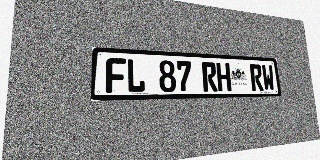7: (176, 61, 193, 92)
8: (159, 60, 176, 92)
F: (106, 58, 126, 93)
H: (216, 62, 231, 91)
L: (126, 58, 145, 93)
R: (202, 62, 218, 92), (249, 64, 264, 91)
W: (261, 65, 275, 91)
